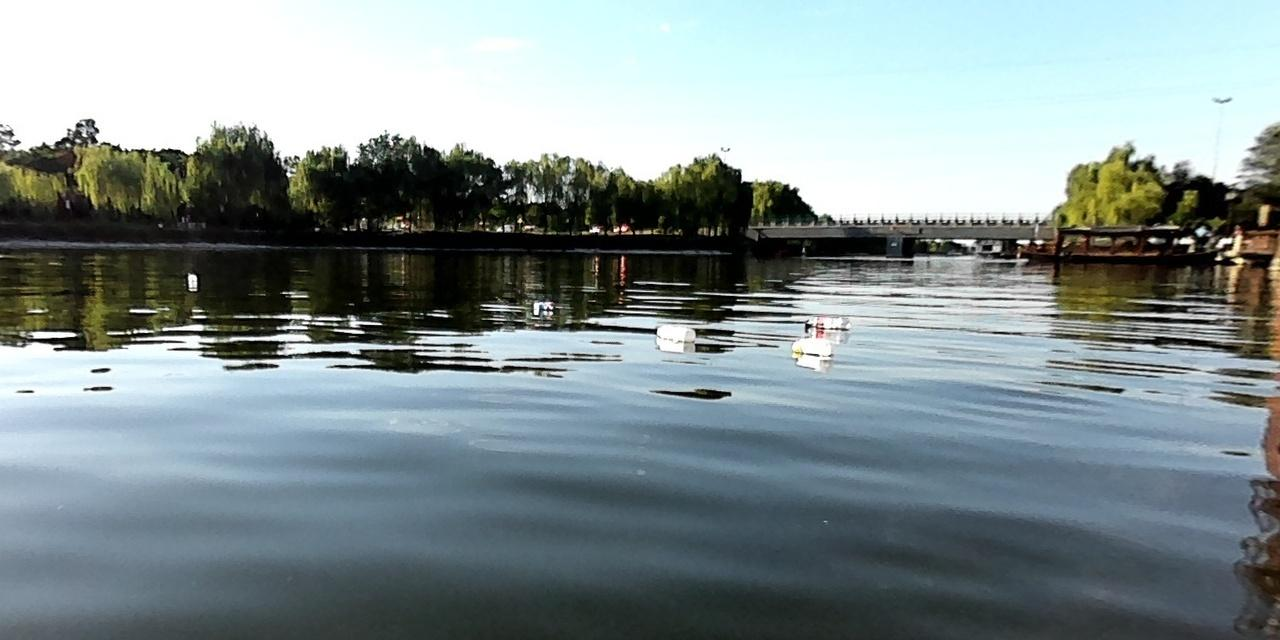bottle: (784, 335, 833, 356), (652, 320, 697, 342), (799, 314, 851, 331), (530, 298, 557, 312)
